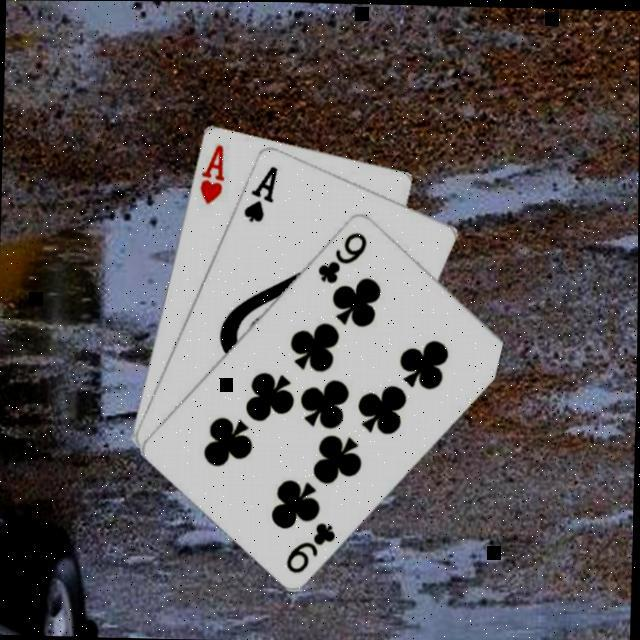9C: (285, 519, 341, 578), (316, 228, 371, 288)
AH: (197, 140, 230, 208)
AS: (242, 162, 282, 225)
